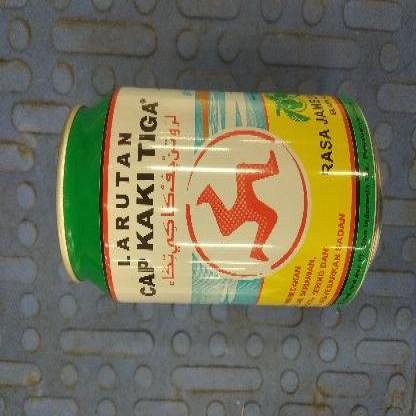alumunium_can: (55, 87, 386, 310)
